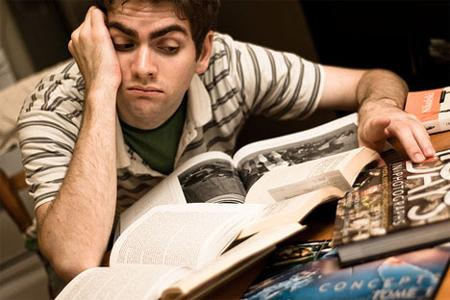person: (19, 3, 438, 300)
